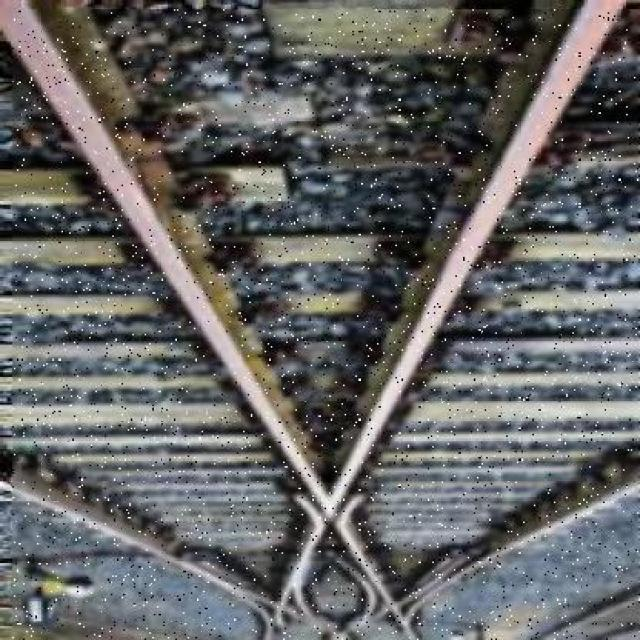rail: (13, 10, 640, 640)
